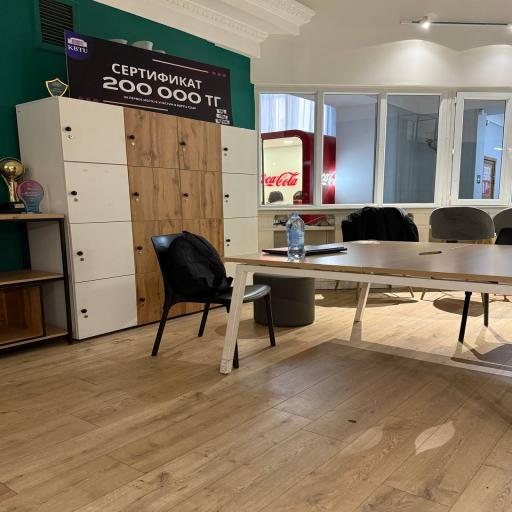bench: (286, 212, 305, 258)
bottle: (151, 234, 276, 368)
corridor: (262, 244, 347, 256)
door: (166, 230, 232, 298)
phone: (220, 241, 512, 373)
